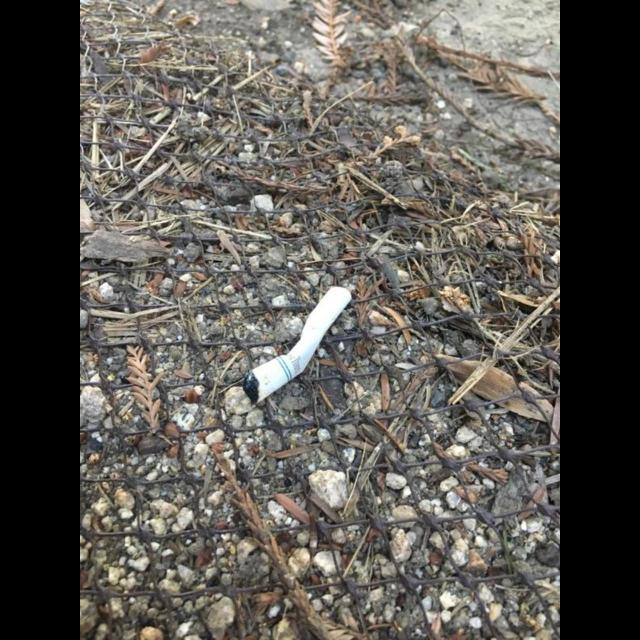cigarette: (242, 287, 351, 405)
